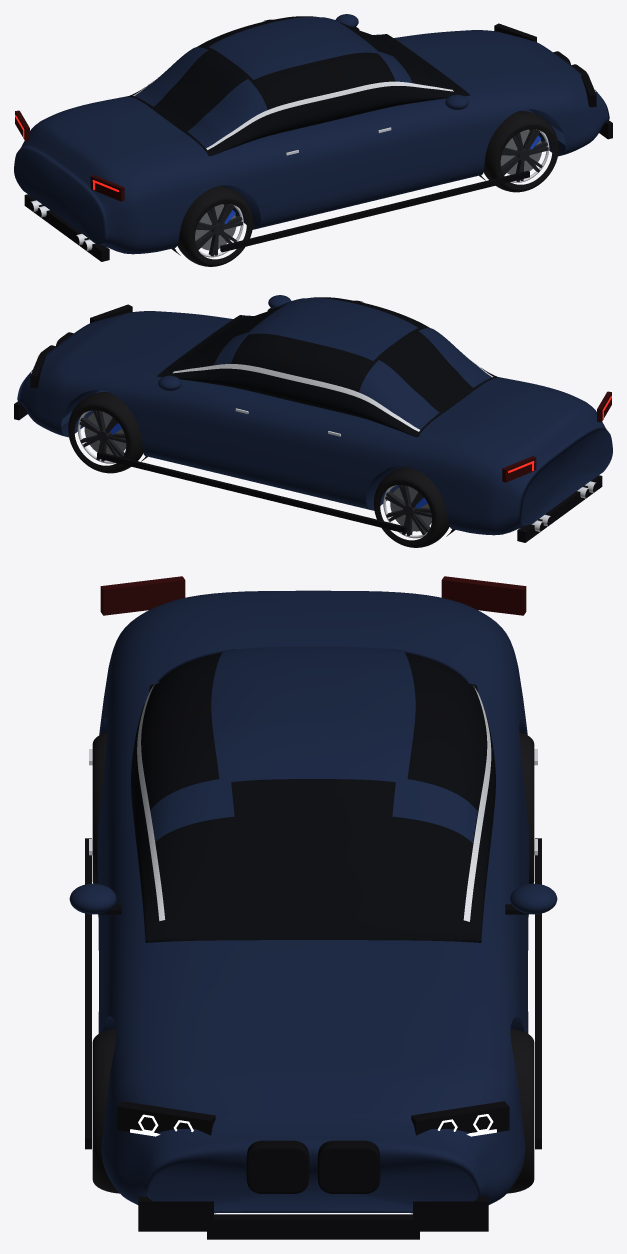
The picture shows the model from 3 angles, top to bottom: view 1: azimuth 30°, elevation 25°; view 2: azimuth 150°, elevation 25°; view 3: azimuth 270°, elevation 25°; orthographic projection. The views are drawn at different scales.
Visible parts, largest first — view 1: M5_F90; view 2: M5_F90; view 3: M5_F90.
Boxes of the visible parts, x1=… form: M5_F90: x1=14, y1=14, x2=612, y2=266; M5_F90: x1=14, y1=295, x2=612, y2=547; M5_F90: x1=69, y1=576, x2=557, y2=1239.
Size of the model in its own units: 5.02 by 1.49 by 2.06.
